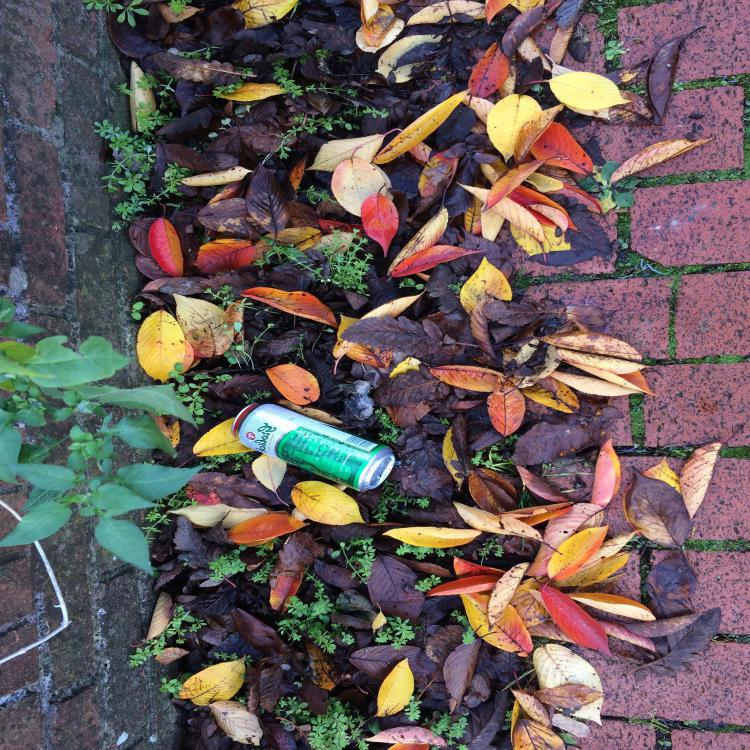Drink can: (232, 403, 395, 492)
